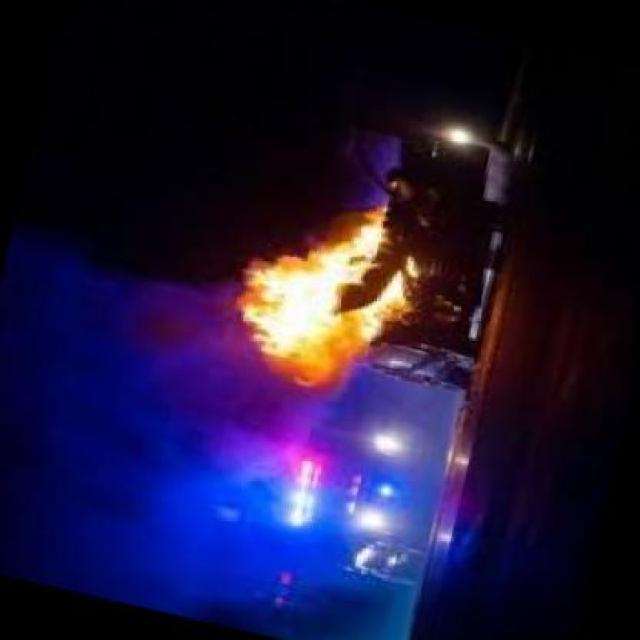Fire: (240, 202, 420, 396)
Smoke: (10, 362, 471, 640), (0, 230, 237, 364)
